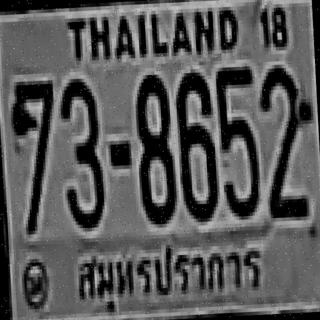N02: (258, 61, 316, 217), (258, 62, 312, 217), (257, 62, 313, 210)
N03: (56, 72, 103, 228)
N05: (213, 62, 260, 218)
N06: (172, 68, 216, 220)
N07: (11, 76, 59, 232)
N08: (134, 70, 176, 222)
P57: (71, 231, 266, 319)
